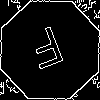F: (25, 25, 70, 79)
